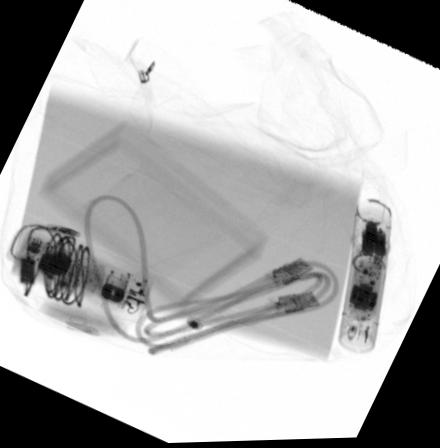Baton: (336, 198, 394, 358)
